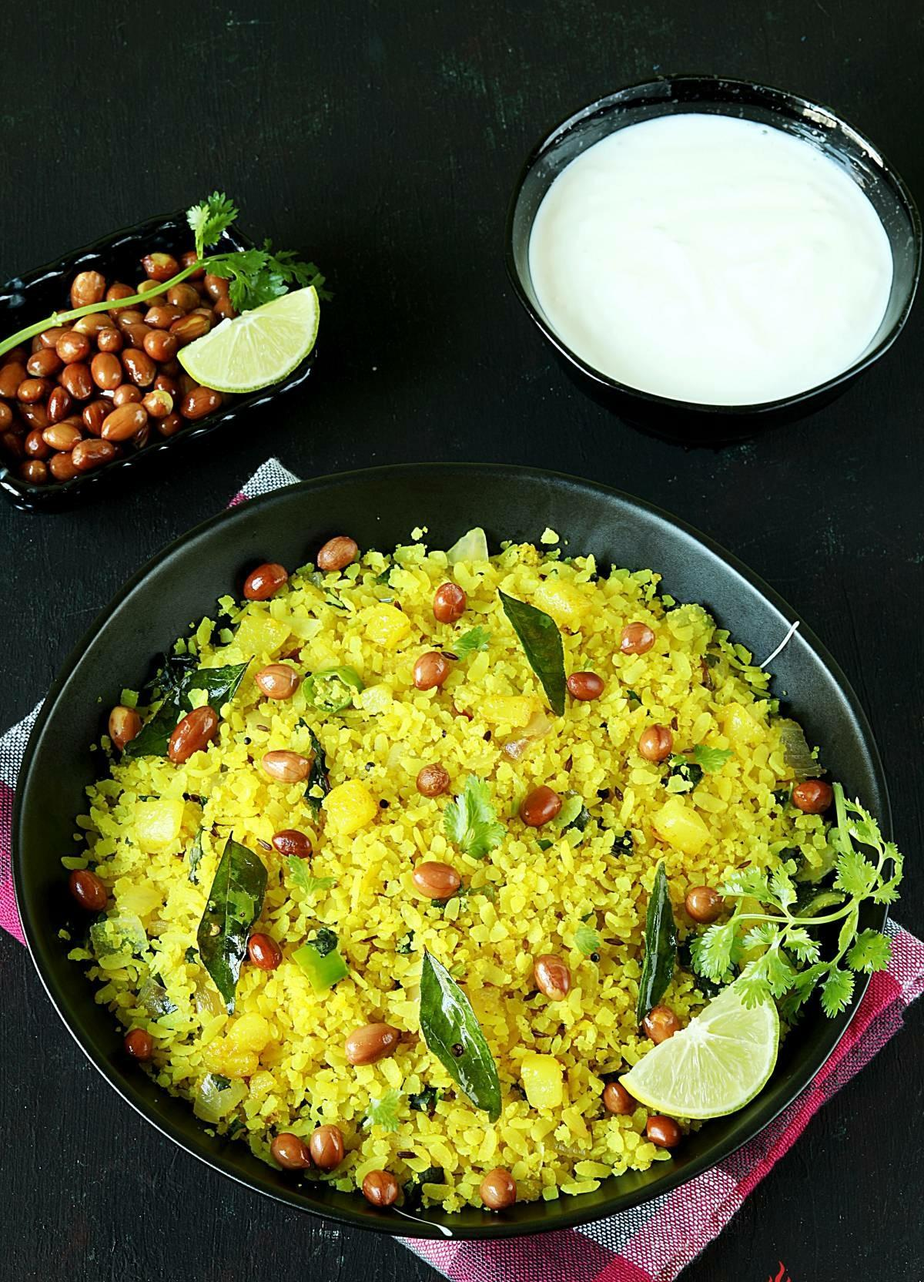Poha: (63, 524, 855, 1213)
